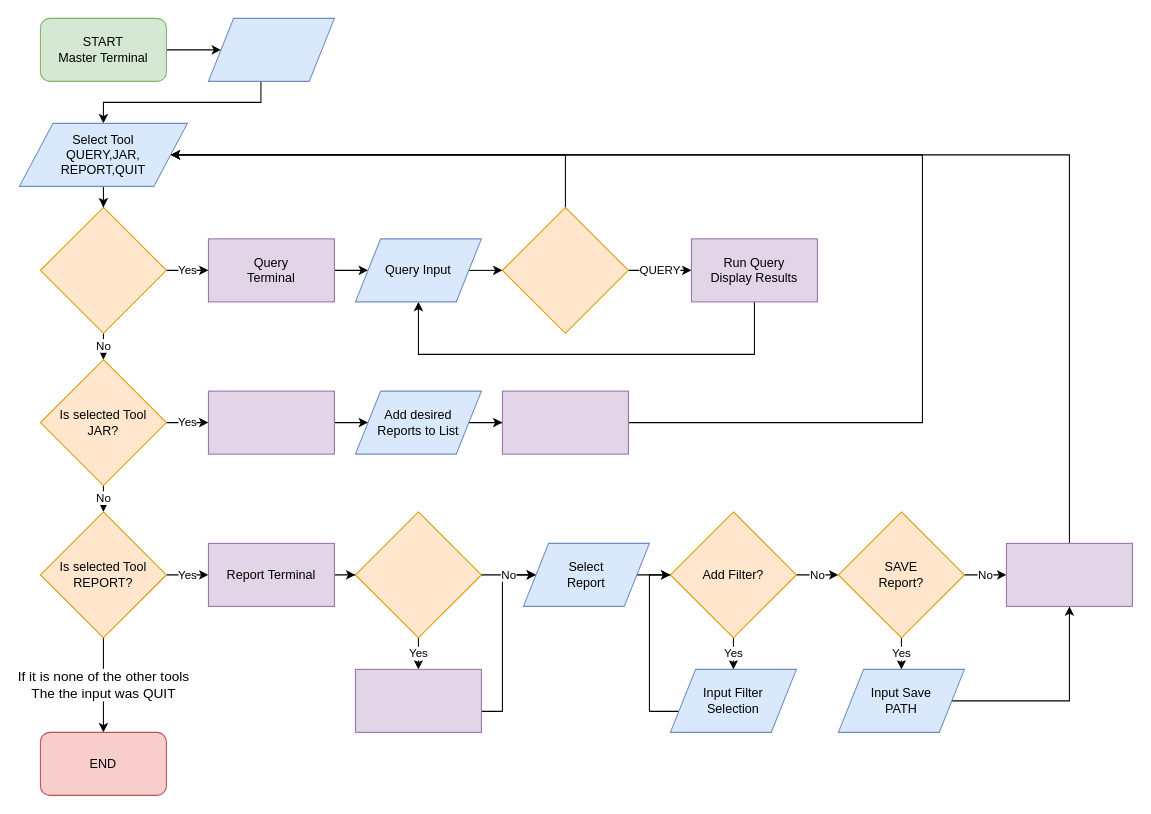
Image size: 1151x814. Some labels were removed from this diagram. Here are the shapes that lost their labels. From the top down, the centre of each, then its label:
At [270,49]: "Login".
At [102,269]: "Is selected Tool QUERY?".
At [564,269]: "Is input QUERY or QUIT?".
At [270,422]: "Report Identifier Terminal".
At [564,422]: "Display JAR Signatures for Desired Reports".
At [417,574]: "View Available Reports?".
At [1068,574]: "SAVE/DISPLAY Report".
At [417,700]: "Display Available Reports".
